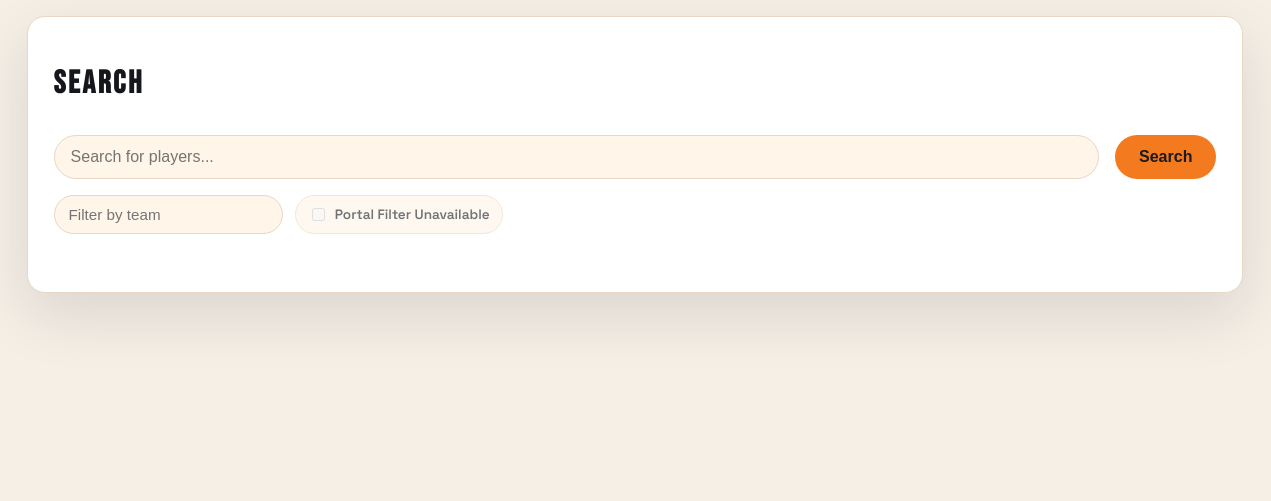
Test: Search › filters out null search results before rendering
This screenshot has width=1271, height=501.
Type "Cameron" into the field with placeholder "Search for players..." at (576, 157), box top-left (54, 135), bottom-right (1099, 179)
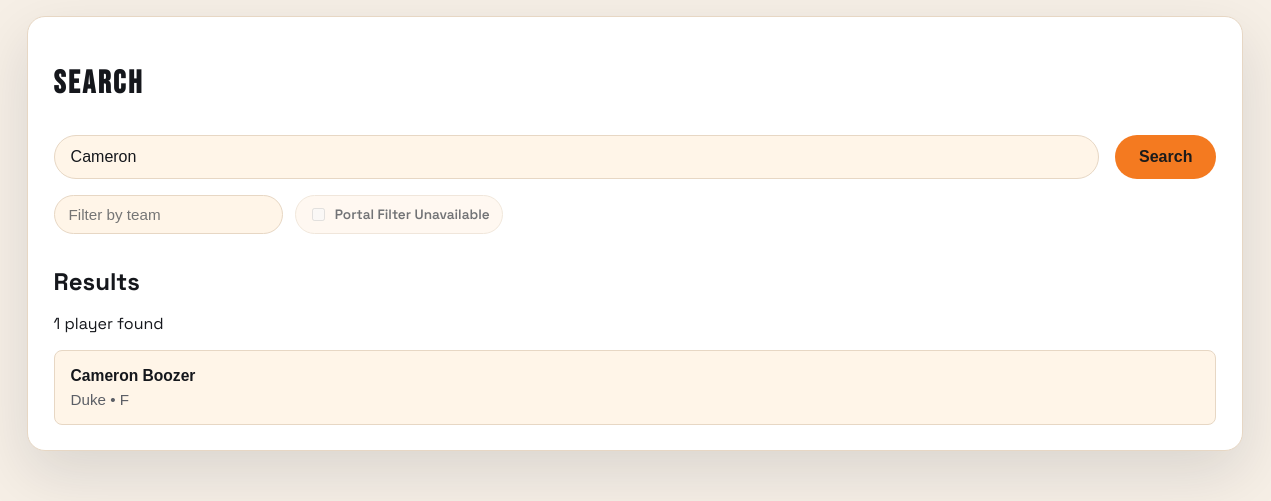
expect the heading "Cameron Boozer" is shown: met, box top-left (71, 367), bottom-right (195, 385)
expect the text "1 player found" is shown: met, box top-left (54, 313), bottom-right (164, 334)
